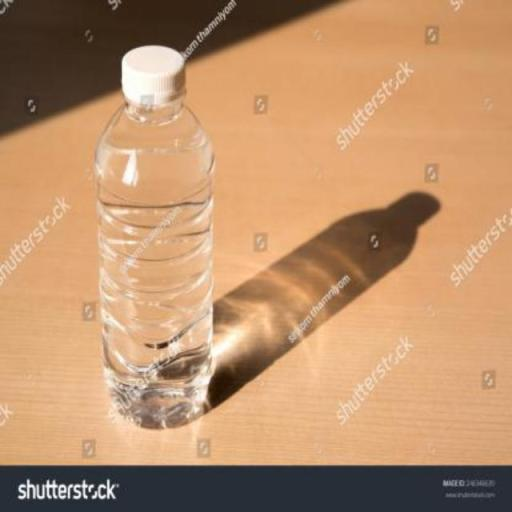Coca: (89, 38, 223, 439)
